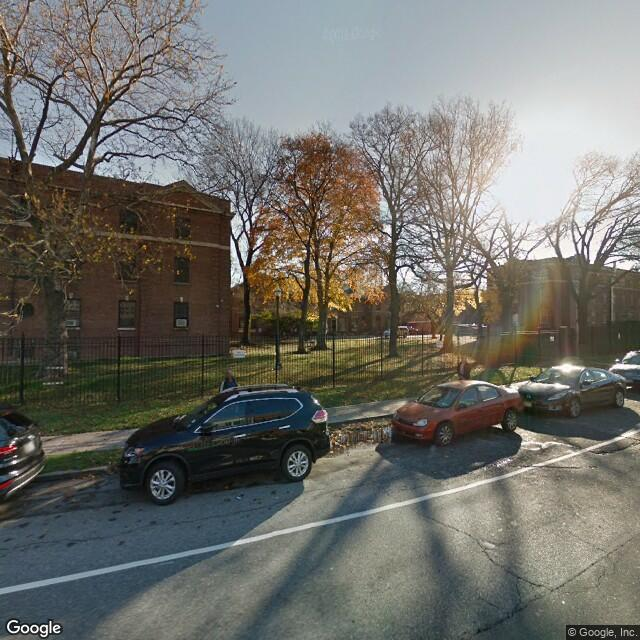litter: (330, 425, 387, 447)
